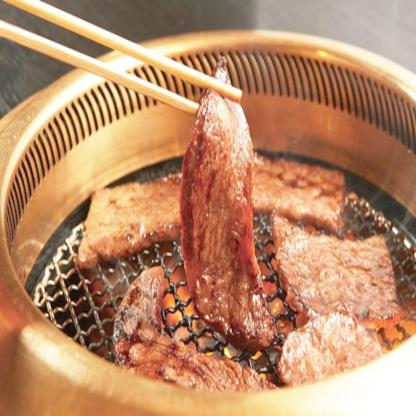Carne: (185, 56, 273, 333), (288, 216, 396, 324), (264, 306, 384, 380)
